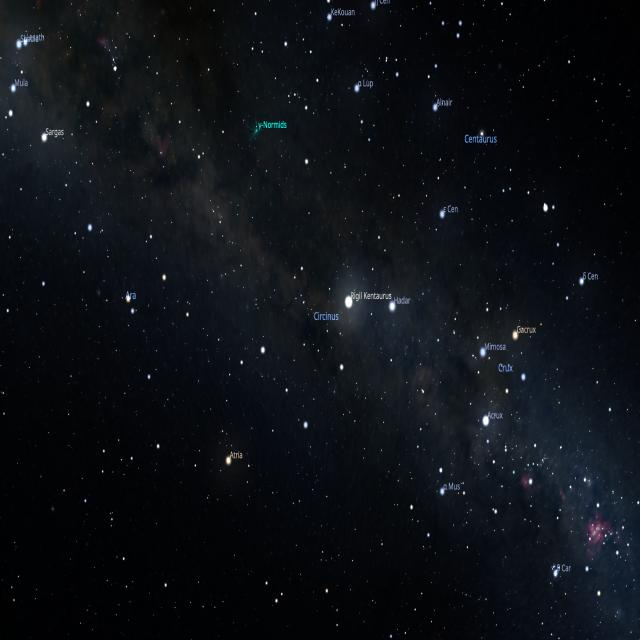Circinus: (292, 260, 348, 377)
